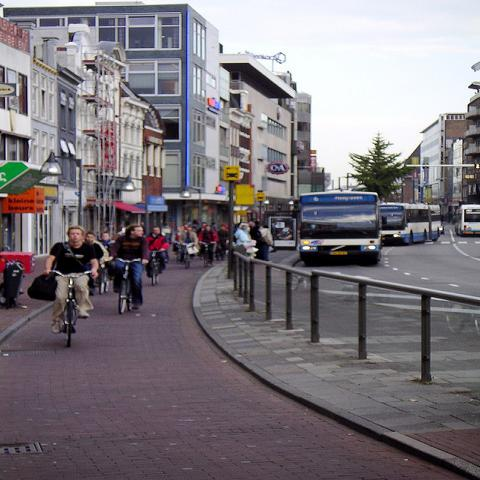bus: (296, 191, 380, 266), (378, 202, 444, 244), (454, 204, 479, 237)
